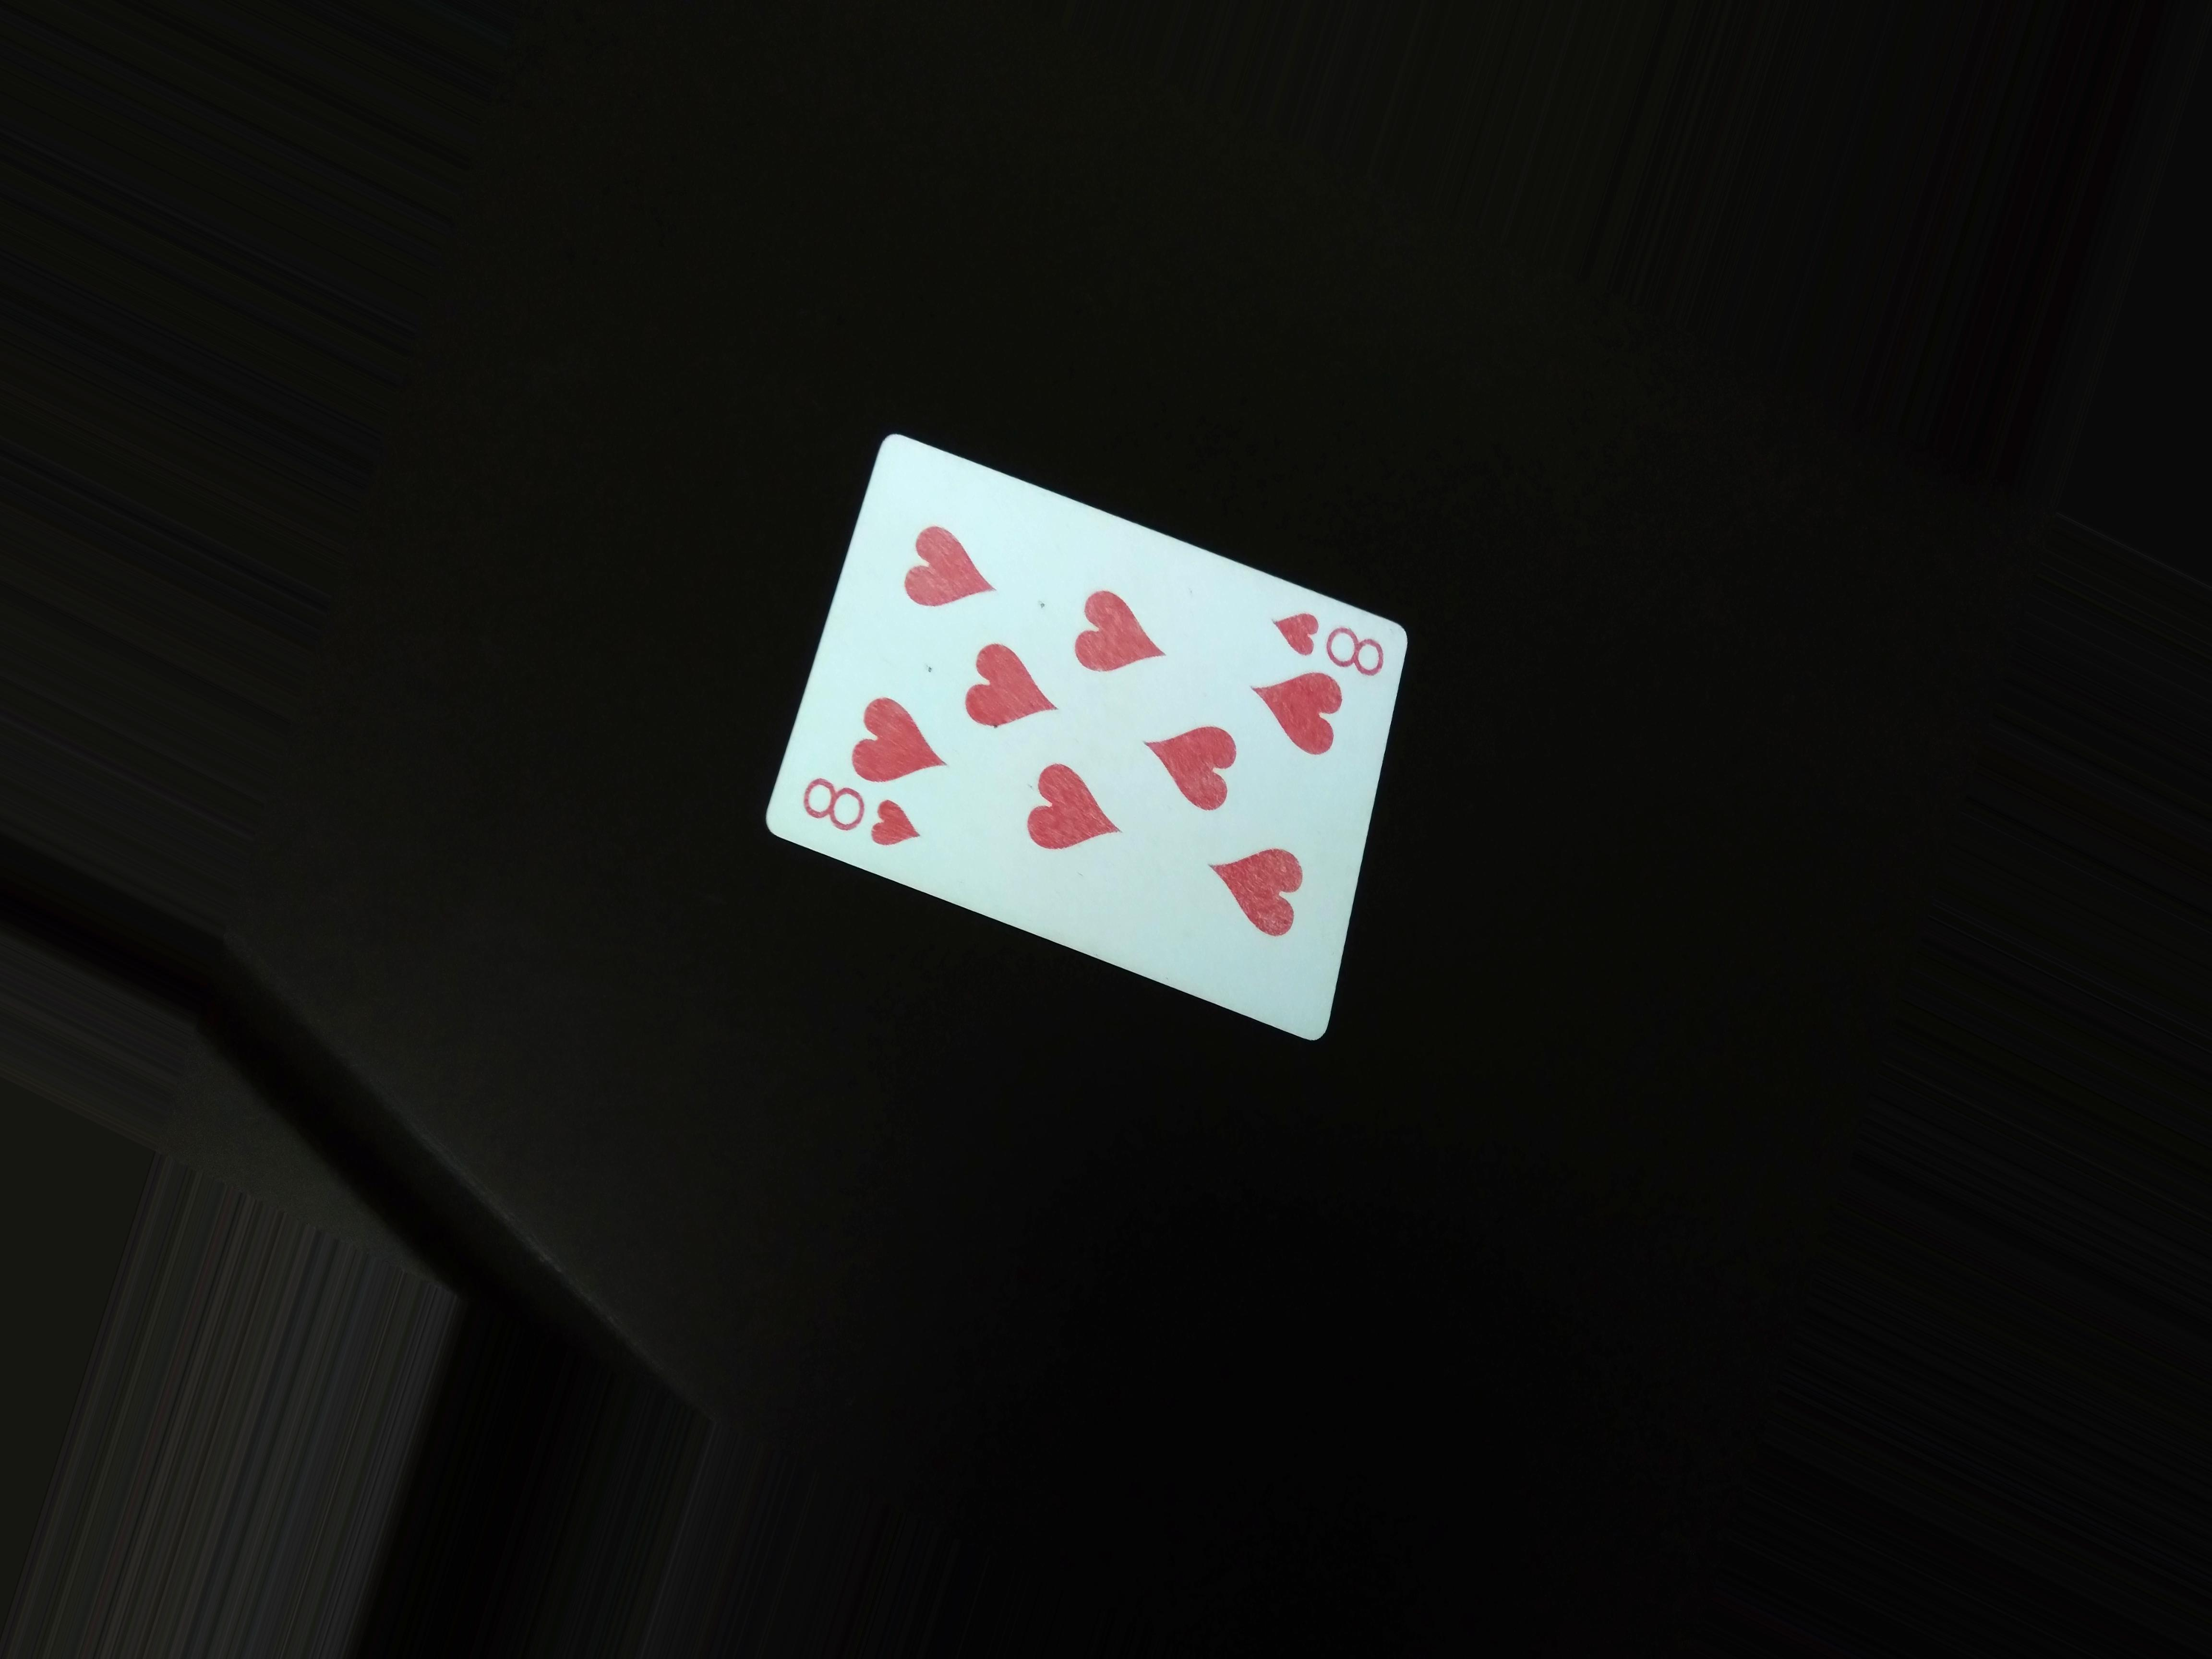8H: (784, 767, 956, 878)
